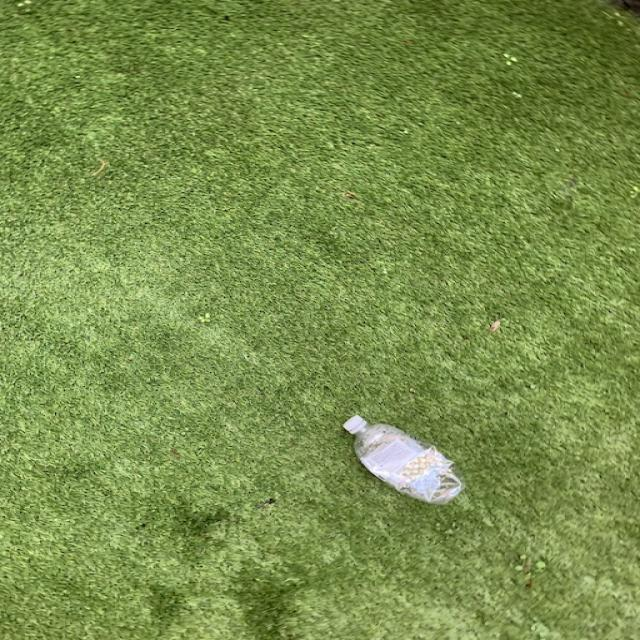Plastic: (344, 416, 466, 505)
